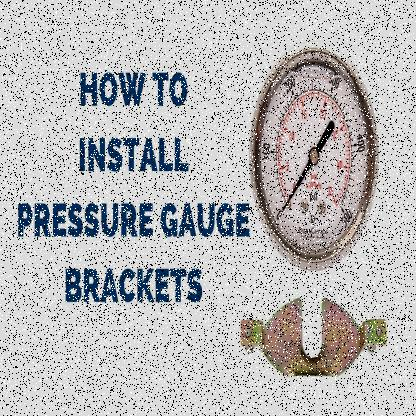needle: (283, 158, 313, 209)
